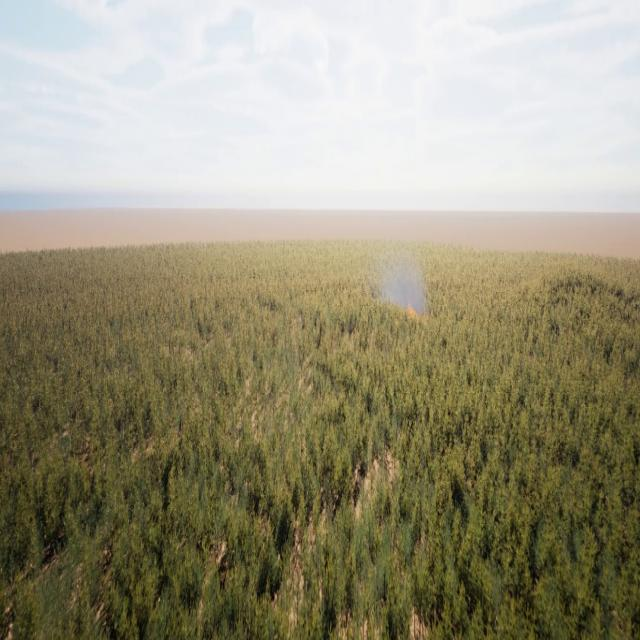fire: (406, 297, 420, 316)
smoke: (378, 250, 427, 319)
